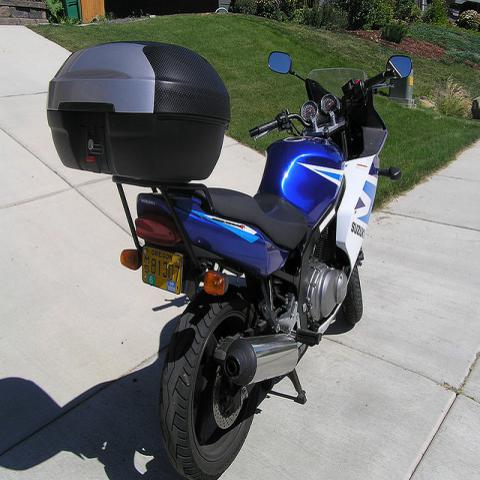motorcycle: (116, 50, 415, 470)
